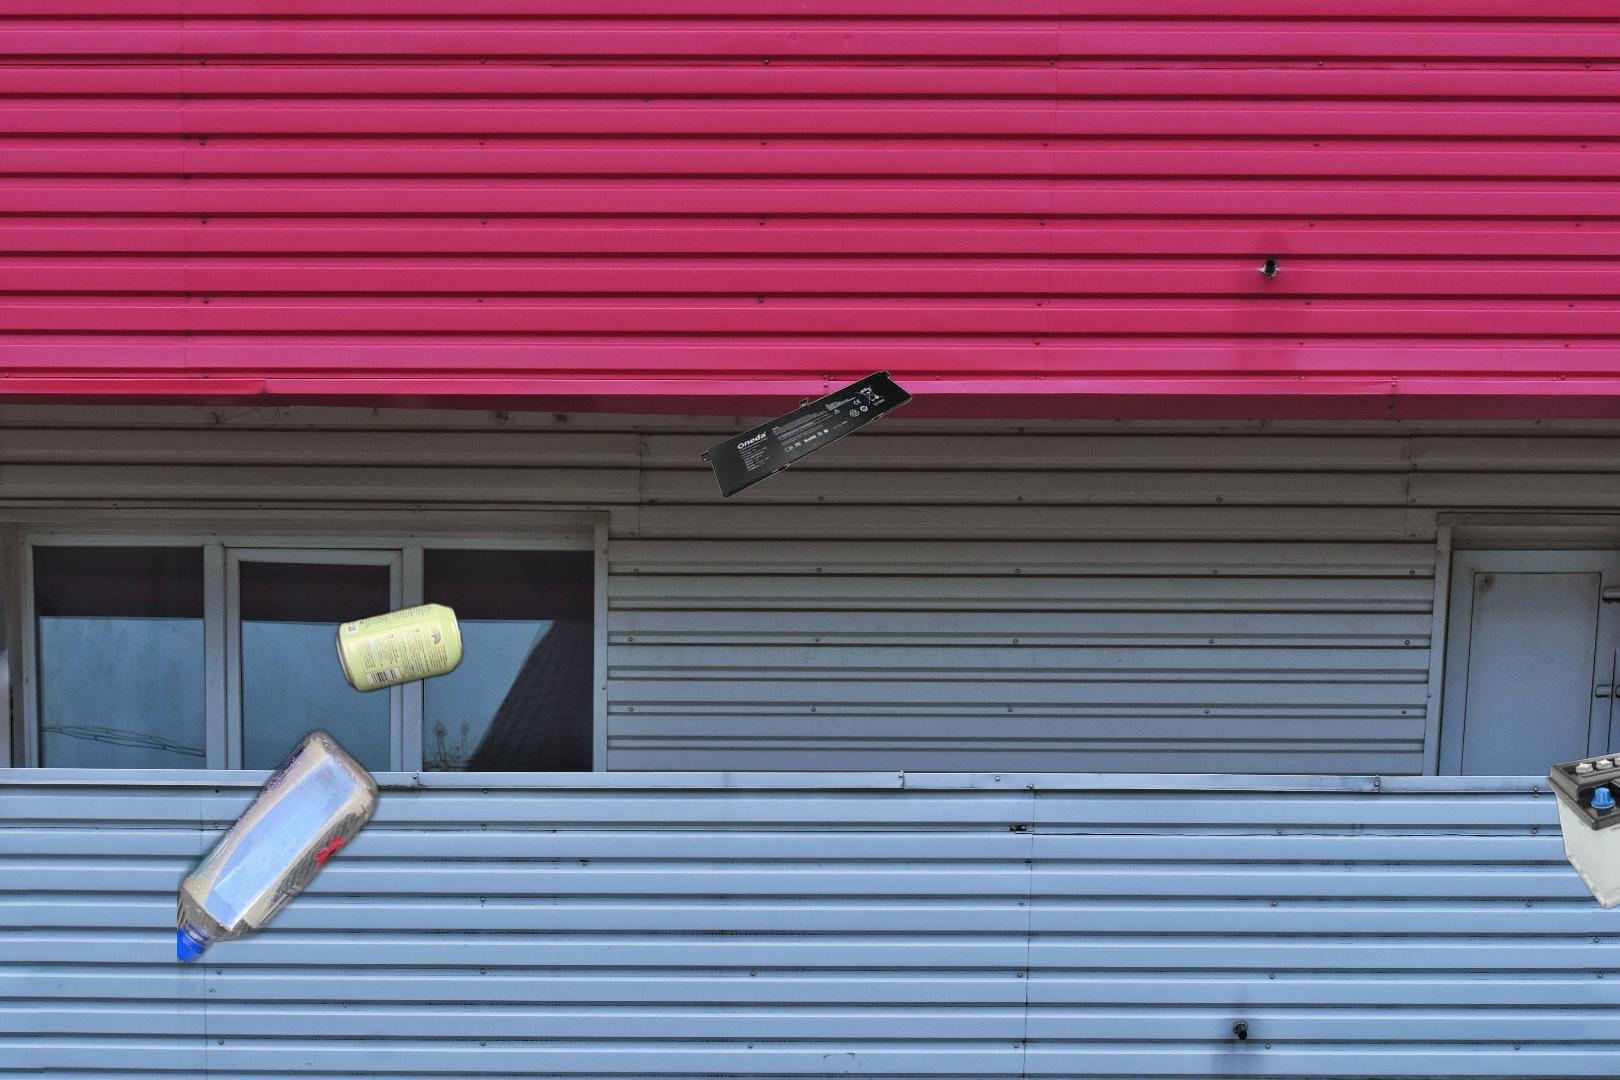battery: (695, 364, 914, 501), (1544, 742, 1620, 912)
metal-cans: (331, 480, 749, 1080)
plastic-bottles: (177, 651, 689, 1080)
